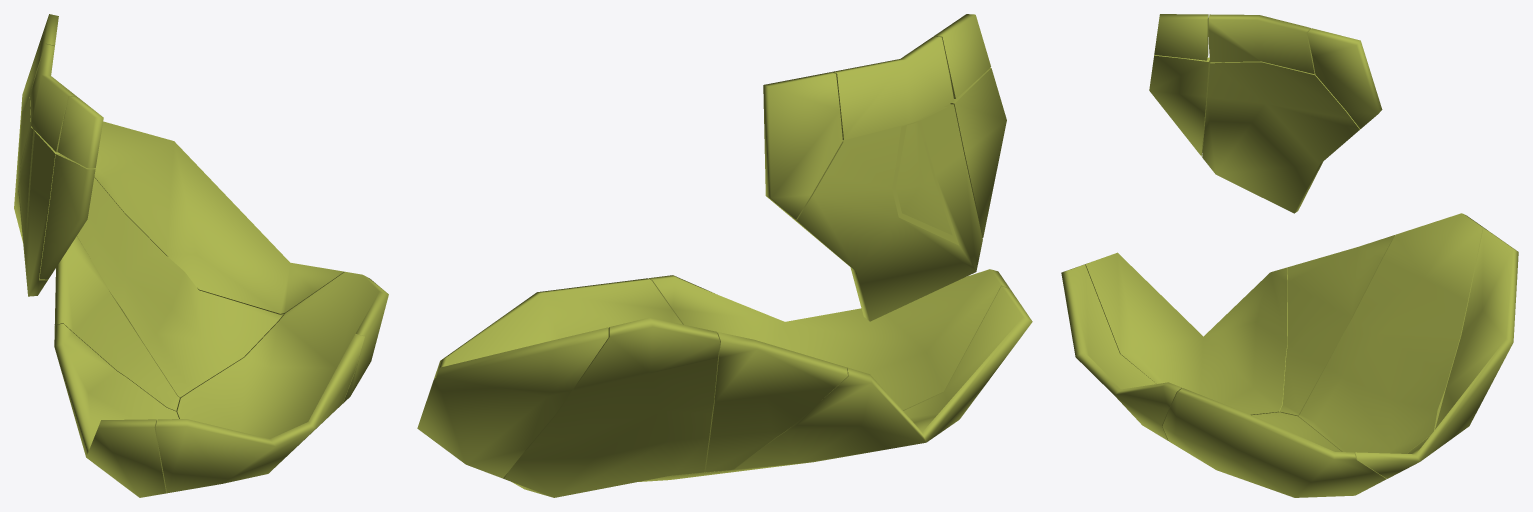
The model's file is Plaque_14.fbx.
3 views of the same model, side by side, from view 1: azimuth 30°, elevation 25°; view 2: azimuth 150°, elevation 25°; view 3: azimuth 270°, elevation 25° (orthographic). The views are drawn at different scales.
Visible parts, largest first — view 1: tooth_u.038_cell.003, tooth_u.038_cell.002, tooth_u.038_cell.004, tooth_u.038_cell.005, tooth_u.038_cell, tooth_u.038_cell.001, tooth_u.040_cell.002, tooth_u.040_cell, tooth_u.040_cell.005, tooth_u.040_cell.001, tooth_u.040_cell.004, tooth_u.040_cell.003; view 2: tooth_u.038_cell.004, tooth_u.040_cell.002, tooth_u.038_cell, tooth_u.038_cell.003, tooth_u.038_cell.005, tooth_u.038_cell.001, tooth_u.038_cell.002, tooth_u.040_cell.004, tooth_u.040_cell.005, tooth_u.040_cell, tooth_u.040_cell.003, tooth_u.040_cell.001; view 3: tooth_u.038_cell.004, tooth_u.038_cell.005, tooth_u.040_cell.002, tooth_u.038_cell.002, tooth_u.038_cell.003, tooth_u.038_cell.001, tooth_u.038_cell, tooth_u.040_cell.005, tooth_u.040_cell.004, tooth_u.040_cell, tooth_u.040_cell.001.
Boxes of the visible parts, x1=… form: tooth_u.038_cell.003: x1=94, y1=121, x2=344, y2=315; tooth_u.038_cell.002: x1=176, y1=271, x2=388, y2=438; tooth_u.038_cell.004: x1=77, y1=177, x2=283, y2=399; tooth_u.038_cell.005: x1=54, y1=323, x2=178, y2=497; tooth_u.038_cell: x1=155, y1=334, x2=364, y2=493; tooth_u.038_cell.001: x1=54, y1=236, x2=179, y2=411; tooth_u.040_cell.002: x1=14, y1=97, x2=59, y2=296; tooth_u.040_cell: x1=39, y1=153, x2=95, y2=279; tooth_u.040_cell.005: x1=30, y1=44, x2=76, y2=152; tooth_u.040_cell.001: x1=57, y1=96, x2=103, y2=168; tooth_u.040_cell.004: x1=20, y1=14, x2=58, y2=126; tooth_u.040_cell.003: x1=18, y1=124, x2=33, y2=245; tooth_u.038_cell.004: x1=503, y1=317, x2=719, y2=497; tooth_u.040_cell.002: x1=792, y1=104, x2=982, y2=321; tooth_u.038_cell: x1=648, y1=269, x2=1010, y2=410; tooth_u.038_cell.003: x1=417, y1=327, x2=608, y2=478; tooth_u.038_cell.005: x1=728, y1=286, x2=1032, y2=470; tooth_u.038_cell.001: x1=704, y1=332, x2=847, y2=472; tooth_u.038_cell.002: x1=434, y1=278, x2=805, y2=492; tooth_u.040_cell.004: x1=763, y1=72, x2=842, y2=219; tooth_u.040_cell.005: x1=832, y1=36, x2=954, y2=140; tooth_u.040_cell: x1=950, y1=68, x2=1006, y2=237; tooth_u.040_cell.003: x1=896, y1=121, x2=952, y2=235; tooth_u.040_cell.001: x1=934, y1=14, x2=990, y2=98; tooth_u.038_cell.004: x1=1298, y1=213, x2=1488, y2=453; tooth_u.038_cell.005: x1=1083, y1=252, x2=1287, y2=415; tooth_u.040_cell.002: x1=1202, y1=61, x2=1360, y2=213; tooth_u.038_cell.002: x1=1162, y1=388, x2=1386, y2=497; tooth_u.038_cell.003: x1=1355, y1=228, x2=1518, y2=478; tooth_u.038_cell.001: x1=1280, y1=235, x2=1394, y2=416; tooth_u.038_cell: x1=1061, y1=264, x2=1181, y2=440; tooth_u.040_cell.005: x1=1208, y1=14, x2=1315, y2=74; tooth_u.040_cell.004: x1=1307, y1=28, x2=1382, y2=128; tooth_u.040_cell: x1=1149, y1=55, x2=1210, y2=156; tooth_u.040_cell.001: x1=1154, y1=14, x2=1208, y2=60.
Size of the model in its own units: 93.96 by 92.31 by 104.
